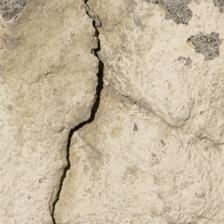Crack: (23, 2, 86, 219)
